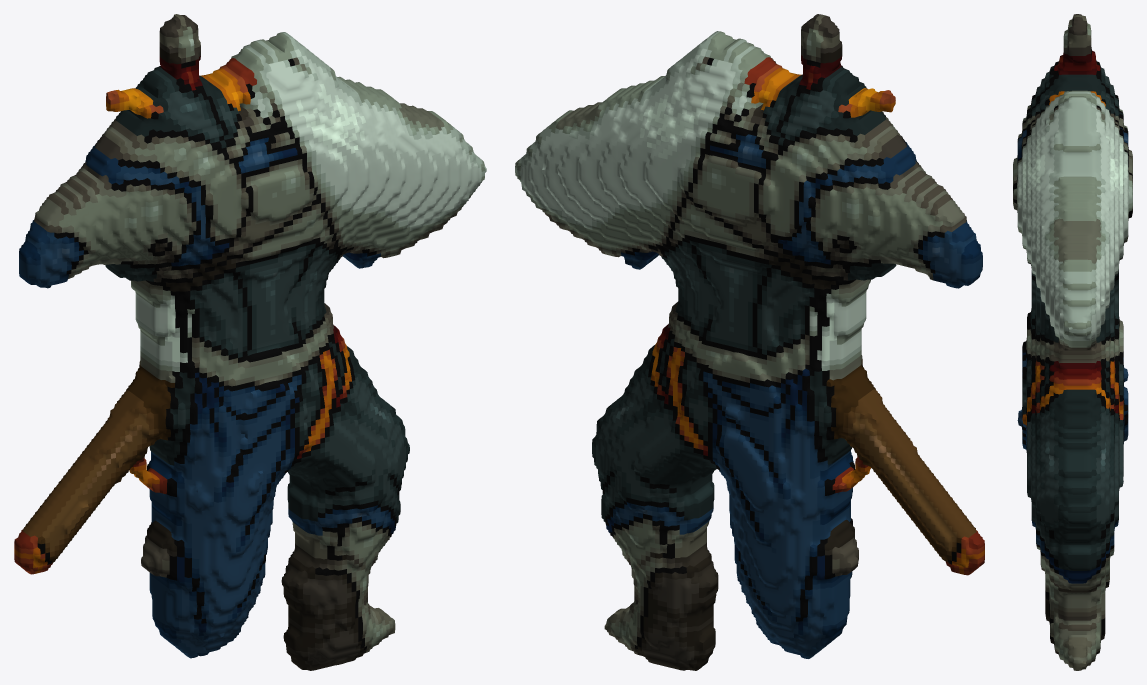
The model's file is Fight_107_3_03.obj.
3 views of the same model, side by side, from view 1: azimuth 30°, elevation 25°; view 2: azimuth 150°, elevation 25°; view 3: azimuth 270°, elevation 25° (orthographic). The views are drawn at different scales.
Bounding box in the file's own units: 9.9 × 13.9 × 2.6.
1 material, 1 textured.
